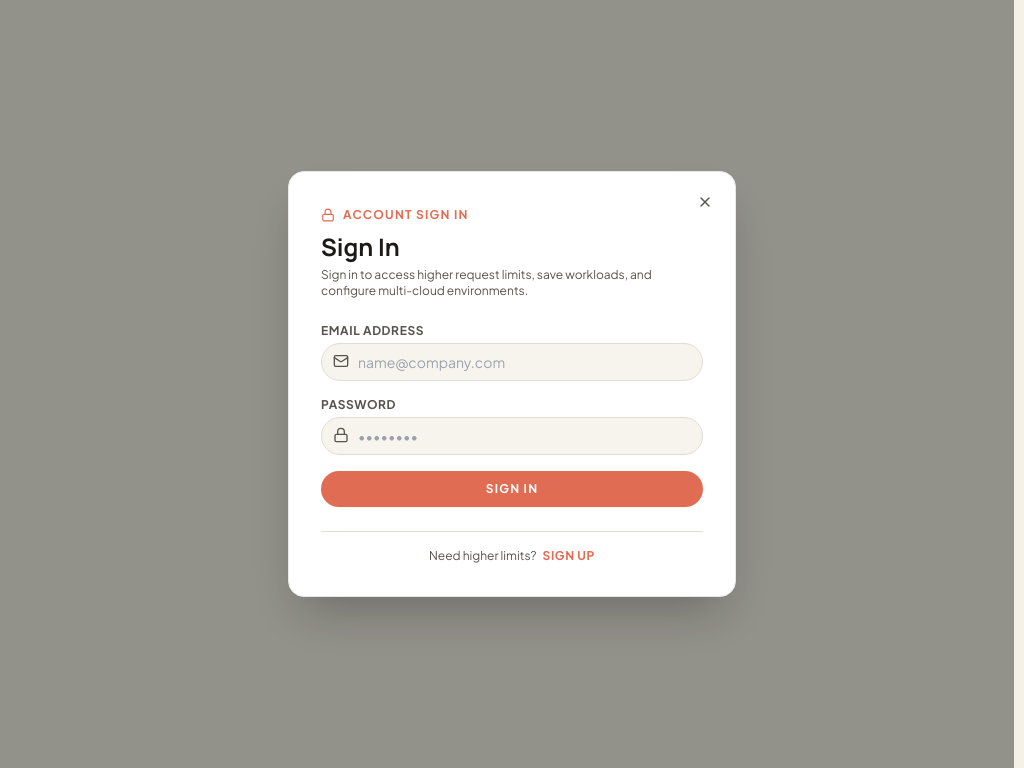
Scenario: AuthModal Component › shows Zod validation errors on empty submission in login mode
Click the button "Sign In" at (512, 489), box [321,471,703,507]
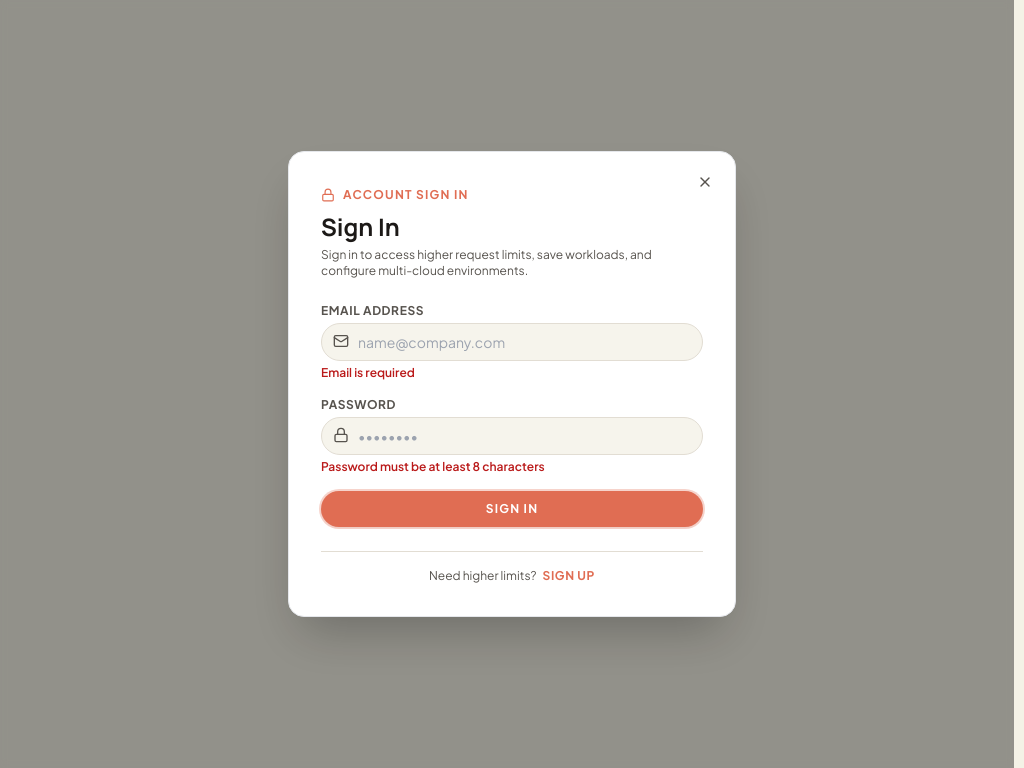
Expected: the text "Email is required" is shown, [321,365,415,380]
Expected: the text "Password must be at least 8 characters" is shown, [321,459,545,474]
